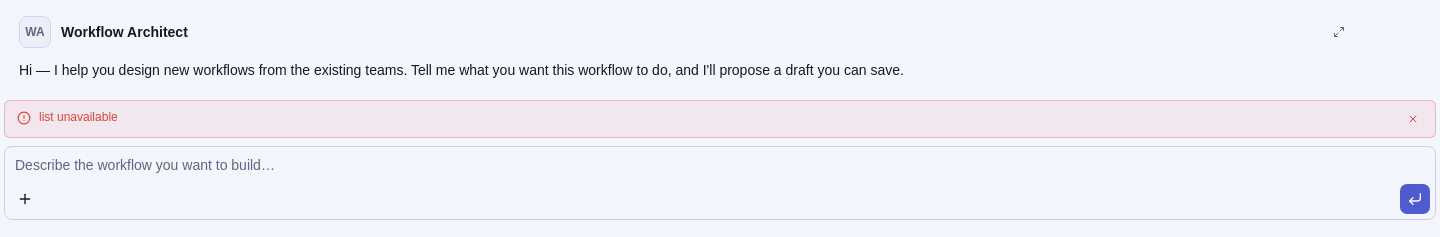
Test: WorkflowGeneratorChat with fileComposer › shows list failures and lets the user dismiss them
Expected: the message reads "list unavailable", top-left (39, 110), bottom-right (118, 124)
What coordinates should you click on to do the following:
click the button named "Dismiss file error"
I would click on:
 (1413, 119)
Its box is top-left (1403, 109), bottom-right (1423, 129).
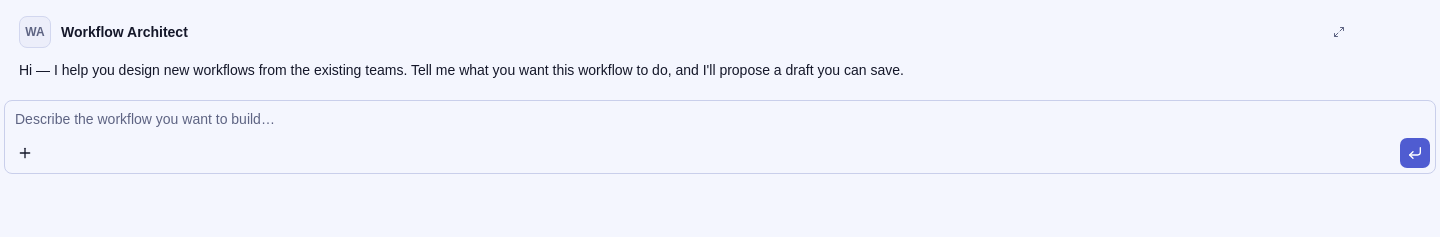
Expected: the message "list unavailable" is gone
